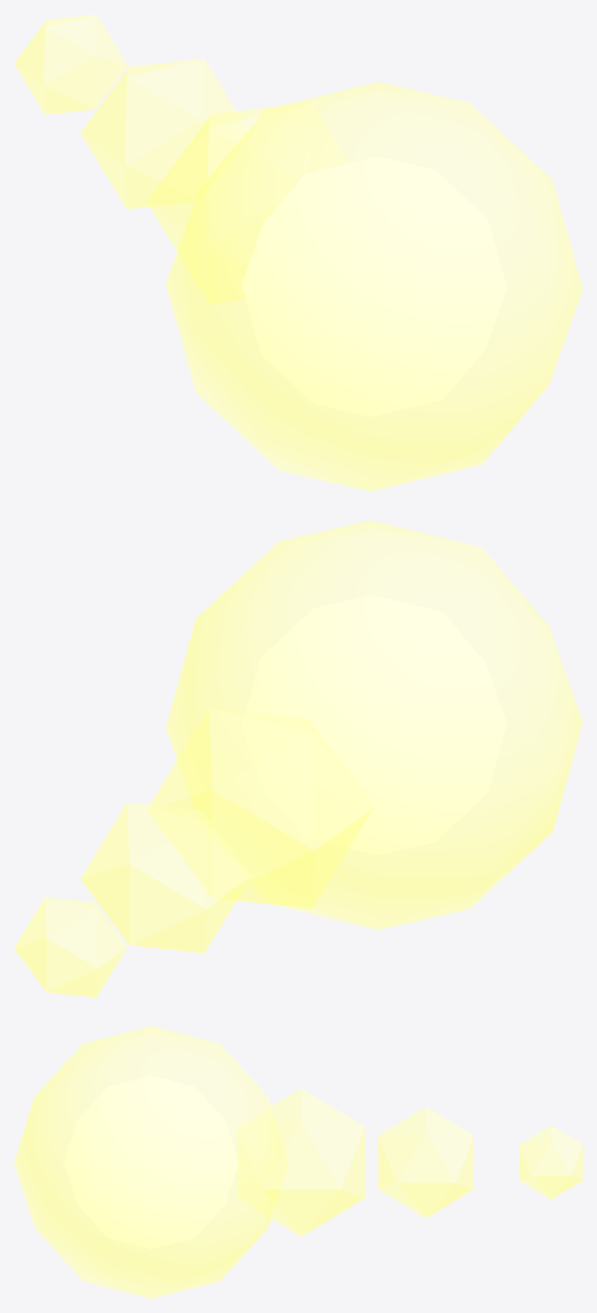
Rendered from m03_firefly_orb.glb.
3 views of the same model, one above another, from view 1: azimuth 30°, elevation 25°; view 2: azimuth 150°, elevation 25°; view 3: azimuth 270°, elevation 25° (orthographic). The views are drawn at different scales.
Visible parts, largest first — view 1: orb_orbGlow, orb_orbCore, trail0_orbGlow, trail1_orbGlow, trail2_orbGlow; view 2: orb_orbGlow, orb_orbCore, trail0_orbGlow, trail1_orbGlow, trail2_orbGlow; view 3: orb_orbGlow, orb_orbCore, trail0_orbGlow, trail1_orbGlow, trail2_orbGlow.
Boxes of the visible parts, bbox=[...] form: orb_orbGlow: bbox=[166, 82, 582, 491]; orb_orbCore: bbox=[242, 156, 506, 416]; trail0_orbGlow: bbox=[147, 103, 347, 303]; trail1_orbGlow: bbox=[80, 59, 247, 209]; trail2_orbGlow: bbox=[14, 14, 127, 114]; orb_orbGlow: bbox=[166, 520, 582, 929]; orb_orbCore: bbox=[242, 595, 506, 855]; trail0_orbGlow: bbox=[147, 708, 373, 908]; trail1_orbGlow: bbox=[80, 802, 250, 952]; trail2_orbGlow: bbox=[14, 897, 127, 997]; orb_orbGlow: bbox=[14, 1026, 288, 1298]; orb_orbCore: bbox=[64, 1076, 238, 1248]; trail0_orbGlow: bbox=[238, 1088, 364, 1236]; trail1_orbGlow: bbox=[378, 1107, 473, 1217]; trail2_orbGlow: bbox=[519, 1125, 582, 1199].
Bounding box in the file's own units: 0.22 × 0.22 × 0.4555.
